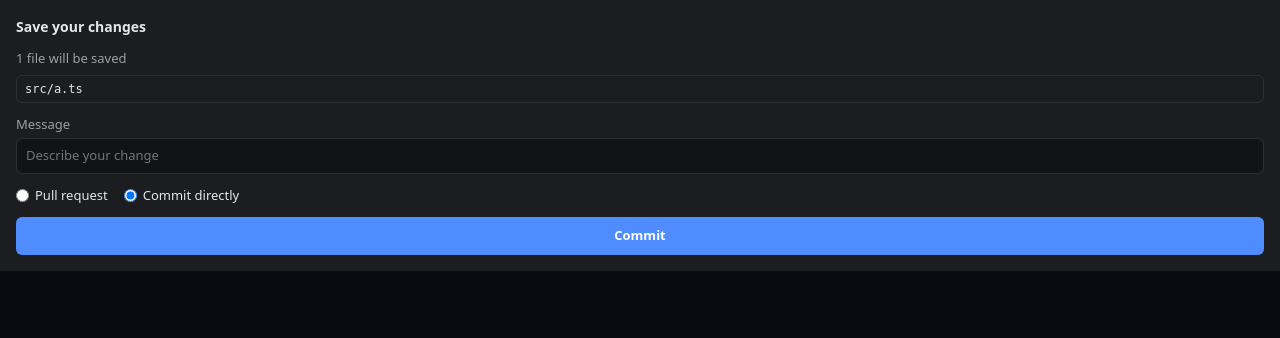
Test: Contribute — the VcsState save-mode facts (R3-964/986) › (d) a direct commit links the new commit, built from target
Click the button "Commit" at (640, 236), box [16, 217, 1264, 254]
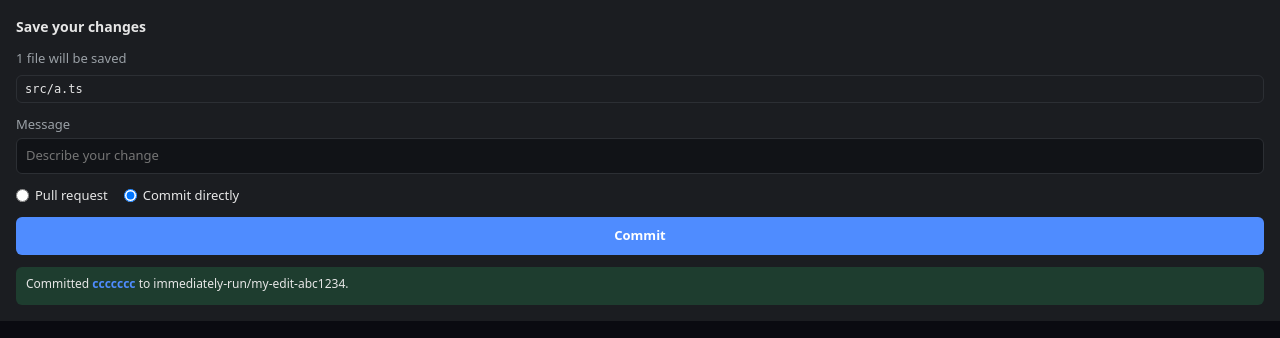
Result: the text "to immediately-run/my-edit-abc1234." is shown at [26, 274, 348, 292]
